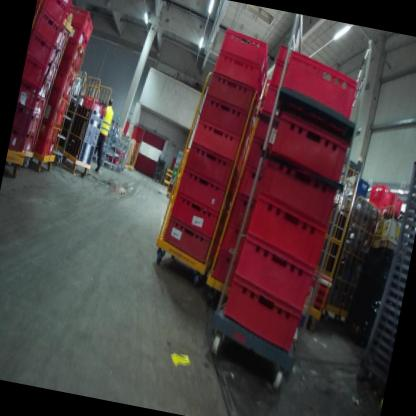small_load_carrier: (212, 264, 311, 353), (250, 151, 345, 236), (227, 236, 317, 325), (264, 104, 358, 187), (273, 44, 366, 124), (241, 197, 335, 262), (165, 183, 228, 246), (212, 25, 272, 90), (192, 88, 255, 147), (158, 212, 217, 272), (180, 143, 242, 198), (171, 161, 231, 217), (207, 50, 264, 107), (201, 74, 262, 124), (185, 115, 246, 163), (223, 186, 261, 238), (215, 217, 250, 268), (204, 243, 239, 294), (56, 36, 91, 76), (365, 176, 395, 220), (64, 3, 97, 43), (27, 28, 58, 69), (33, 0, 70, 33), (30, 6, 61, 45), (251, 110, 283, 147), (241, 136, 270, 176), (234, 162, 261, 203), (21, 53, 51, 89), (384, 190, 412, 227), (63, 19, 93, 52), (35, 84, 69, 113), (267, 59, 291, 98), (48, 67, 77, 99), (258, 83, 283, 120), (8, 127, 41, 155), (17, 73, 40, 112), (11, 101, 34, 137), (53, 11, 71, 55), (80, 95, 111, 120), (54, 56, 80, 82), (272, 40, 294, 70), (23, 109, 44, 140), (39, 104, 64, 128), (30, 77, 51, 102), (42, 58, 62, 83), (34, 134, 56, 156), (38, 122, 61, 143), (29, 94, 49, 118), (48, 41, 64, 67)
